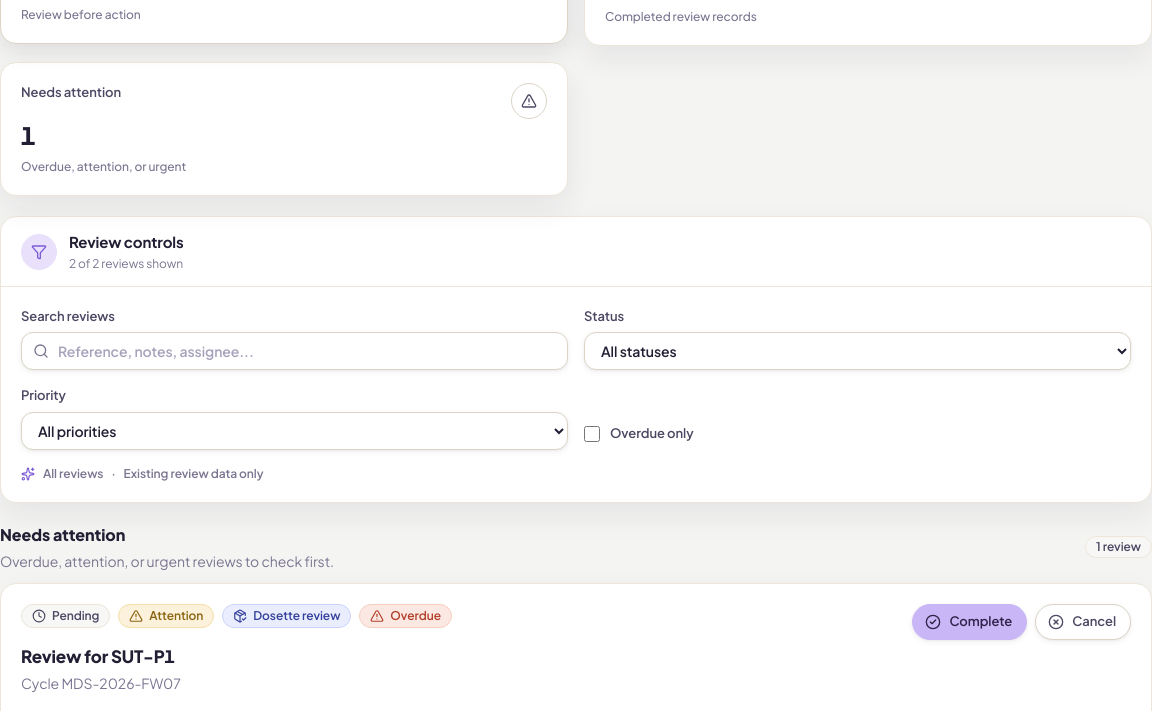
Test: ReviewsScreen › keeps the selected review visible after picking a search suggestion
(page scrolled)
Expected: the heading "Review for SUT-P1" is shown, [21, 645, 175, 667]
Type "CRO" into the search field labelled "Search reviews" at {"x": 294, "y": 351}, box [21, 332, 568, 370]
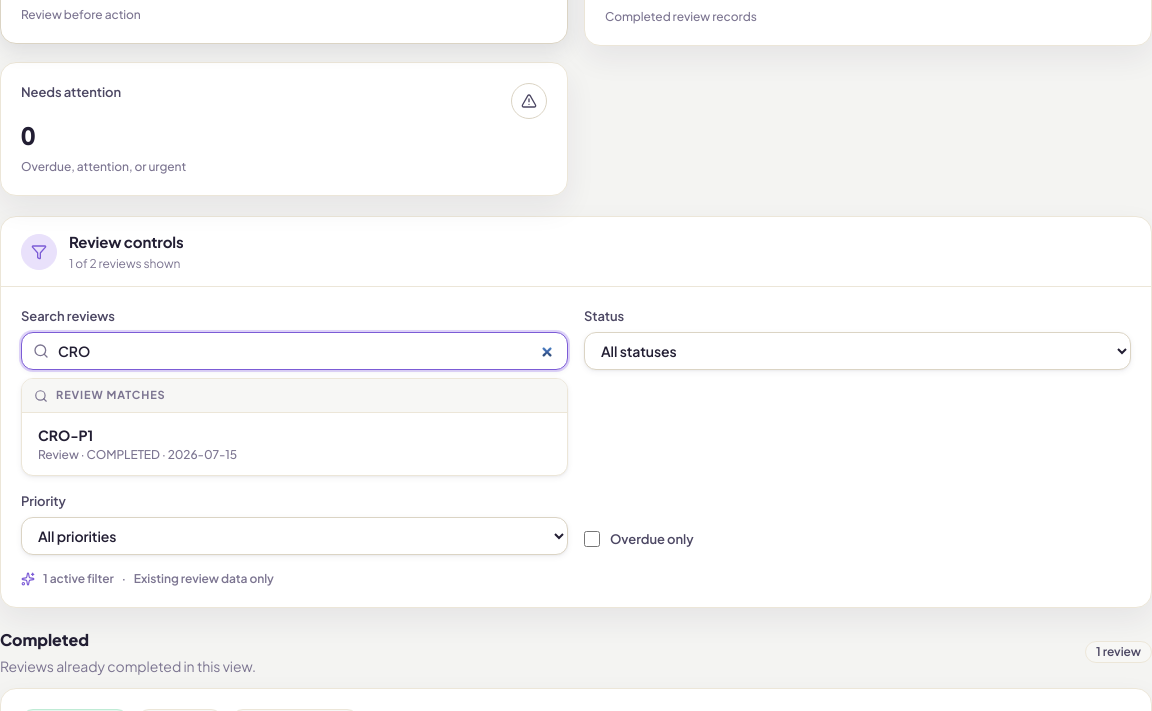
Now the text "CRO-P1" is shown, box [38, 425, 93, 445]
Now the text "Review · COMPLETED · 2026-07-15" is shown, box [38, 447, 237, 463]
Click the button "CRO-P1 Review · COMPLETED · 2026-07-15" at {"x": 66, "y": 435}, box [26, 417, 563, 471]
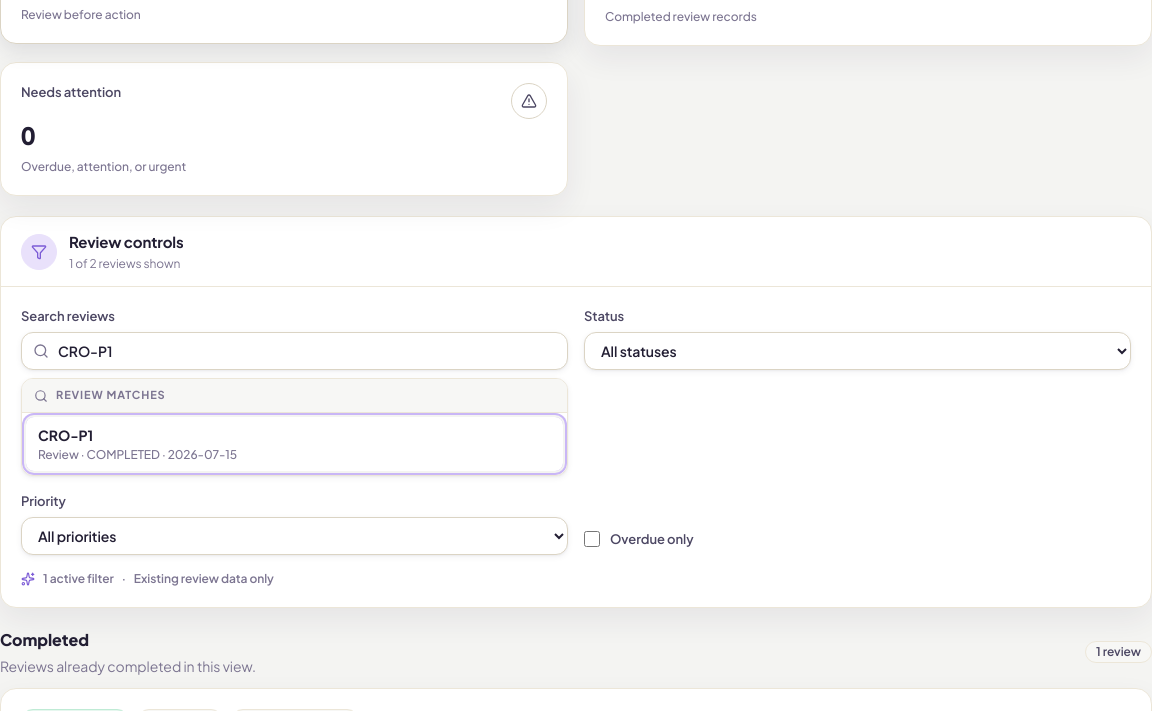
Expected: the heading "Completed" is shown, [0, 629, 89, 650]
Now the search field labelled "Search reviews" holds "CRO-P1", box [21, 332, 568, 370]
